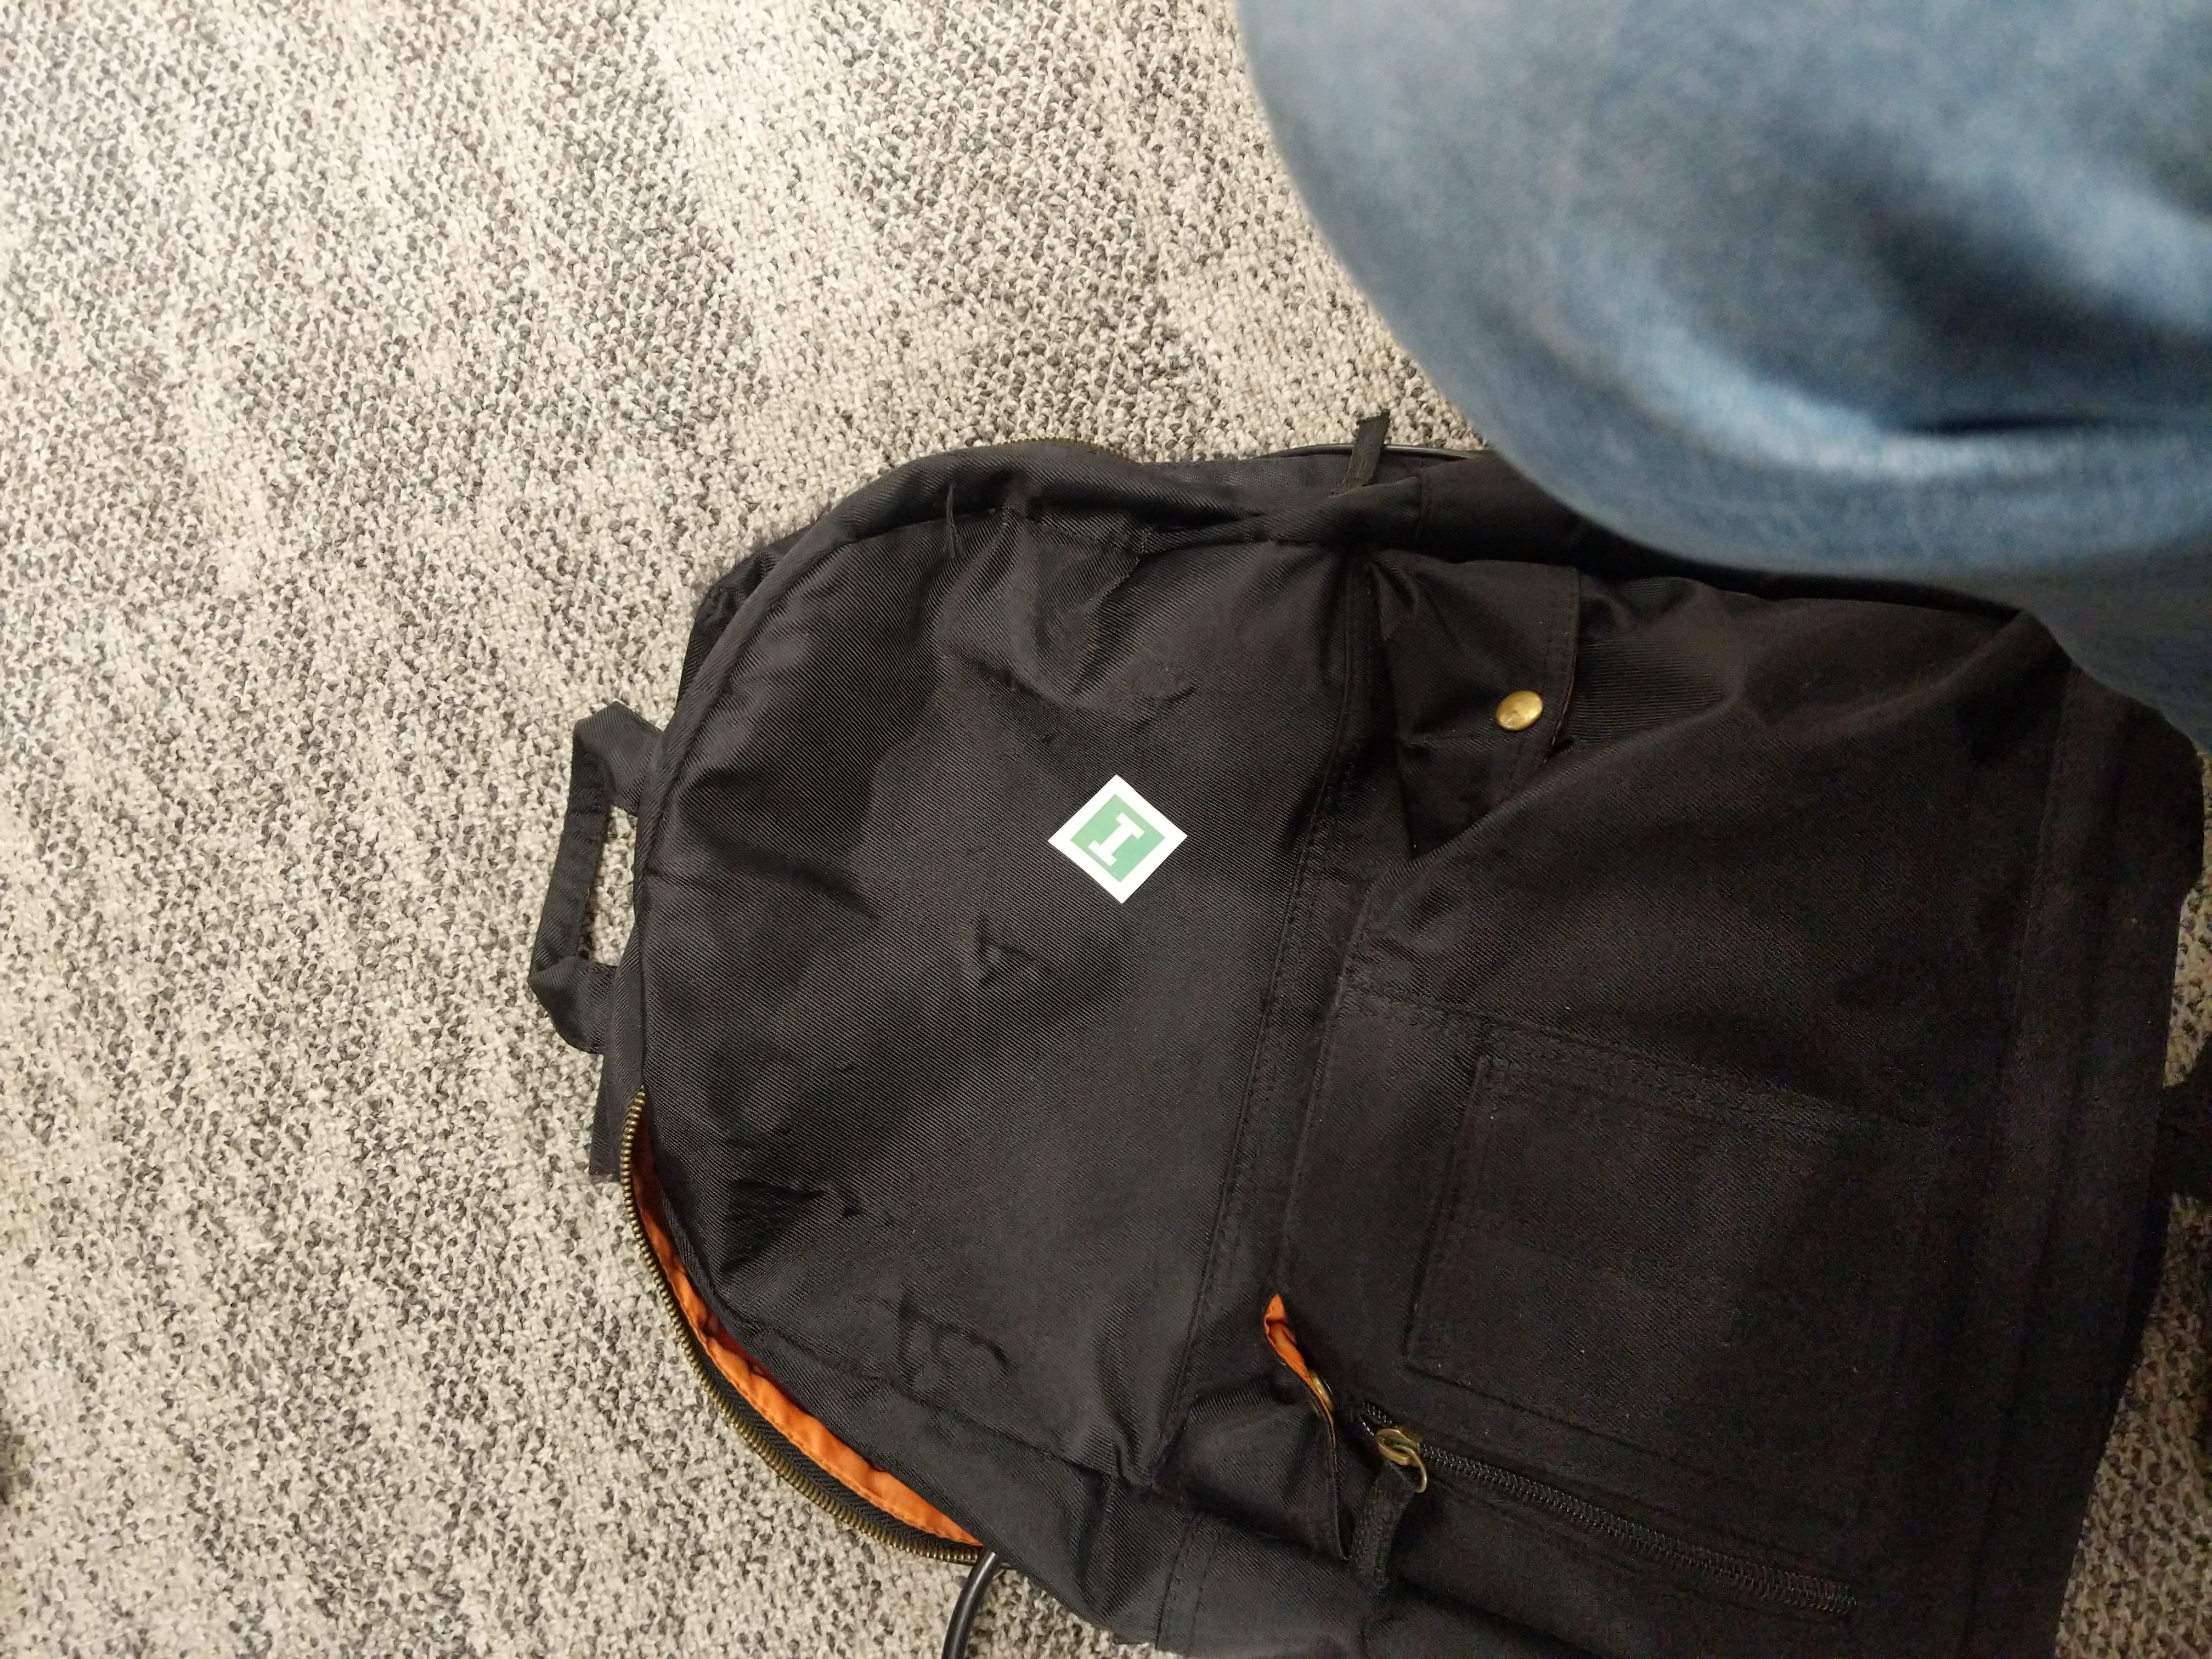green marker: (1043, 779, 1197, 903)
